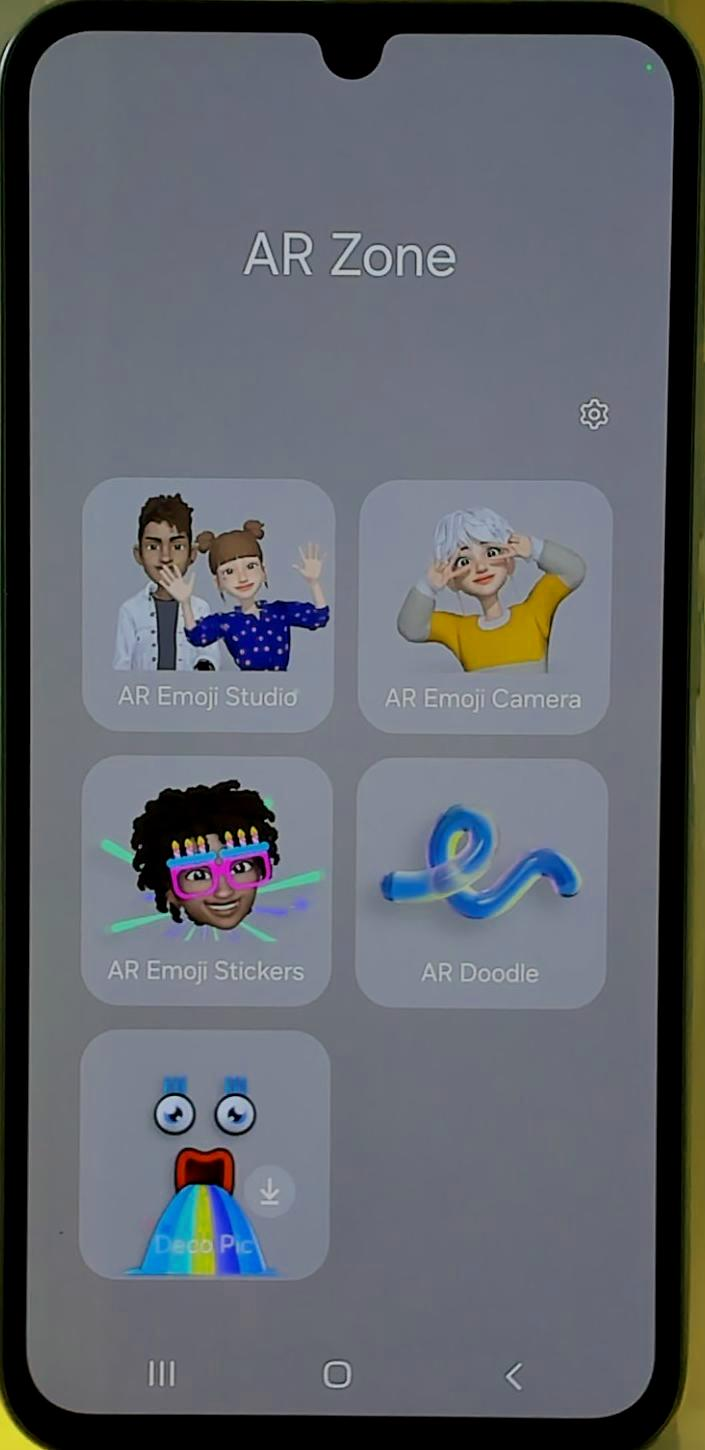CommunBotton: (74, 1024, 344, 1300), (78, 466, 340, 740), (354, 468, 616, 742), (354, 752, 616, 1016), (74, 750, 336, 1014), (562, 382, 622, 440), (138, 1340, 182, 1404), (314, 1354, 364, 1400), (504, 1346, 534, 1404)
